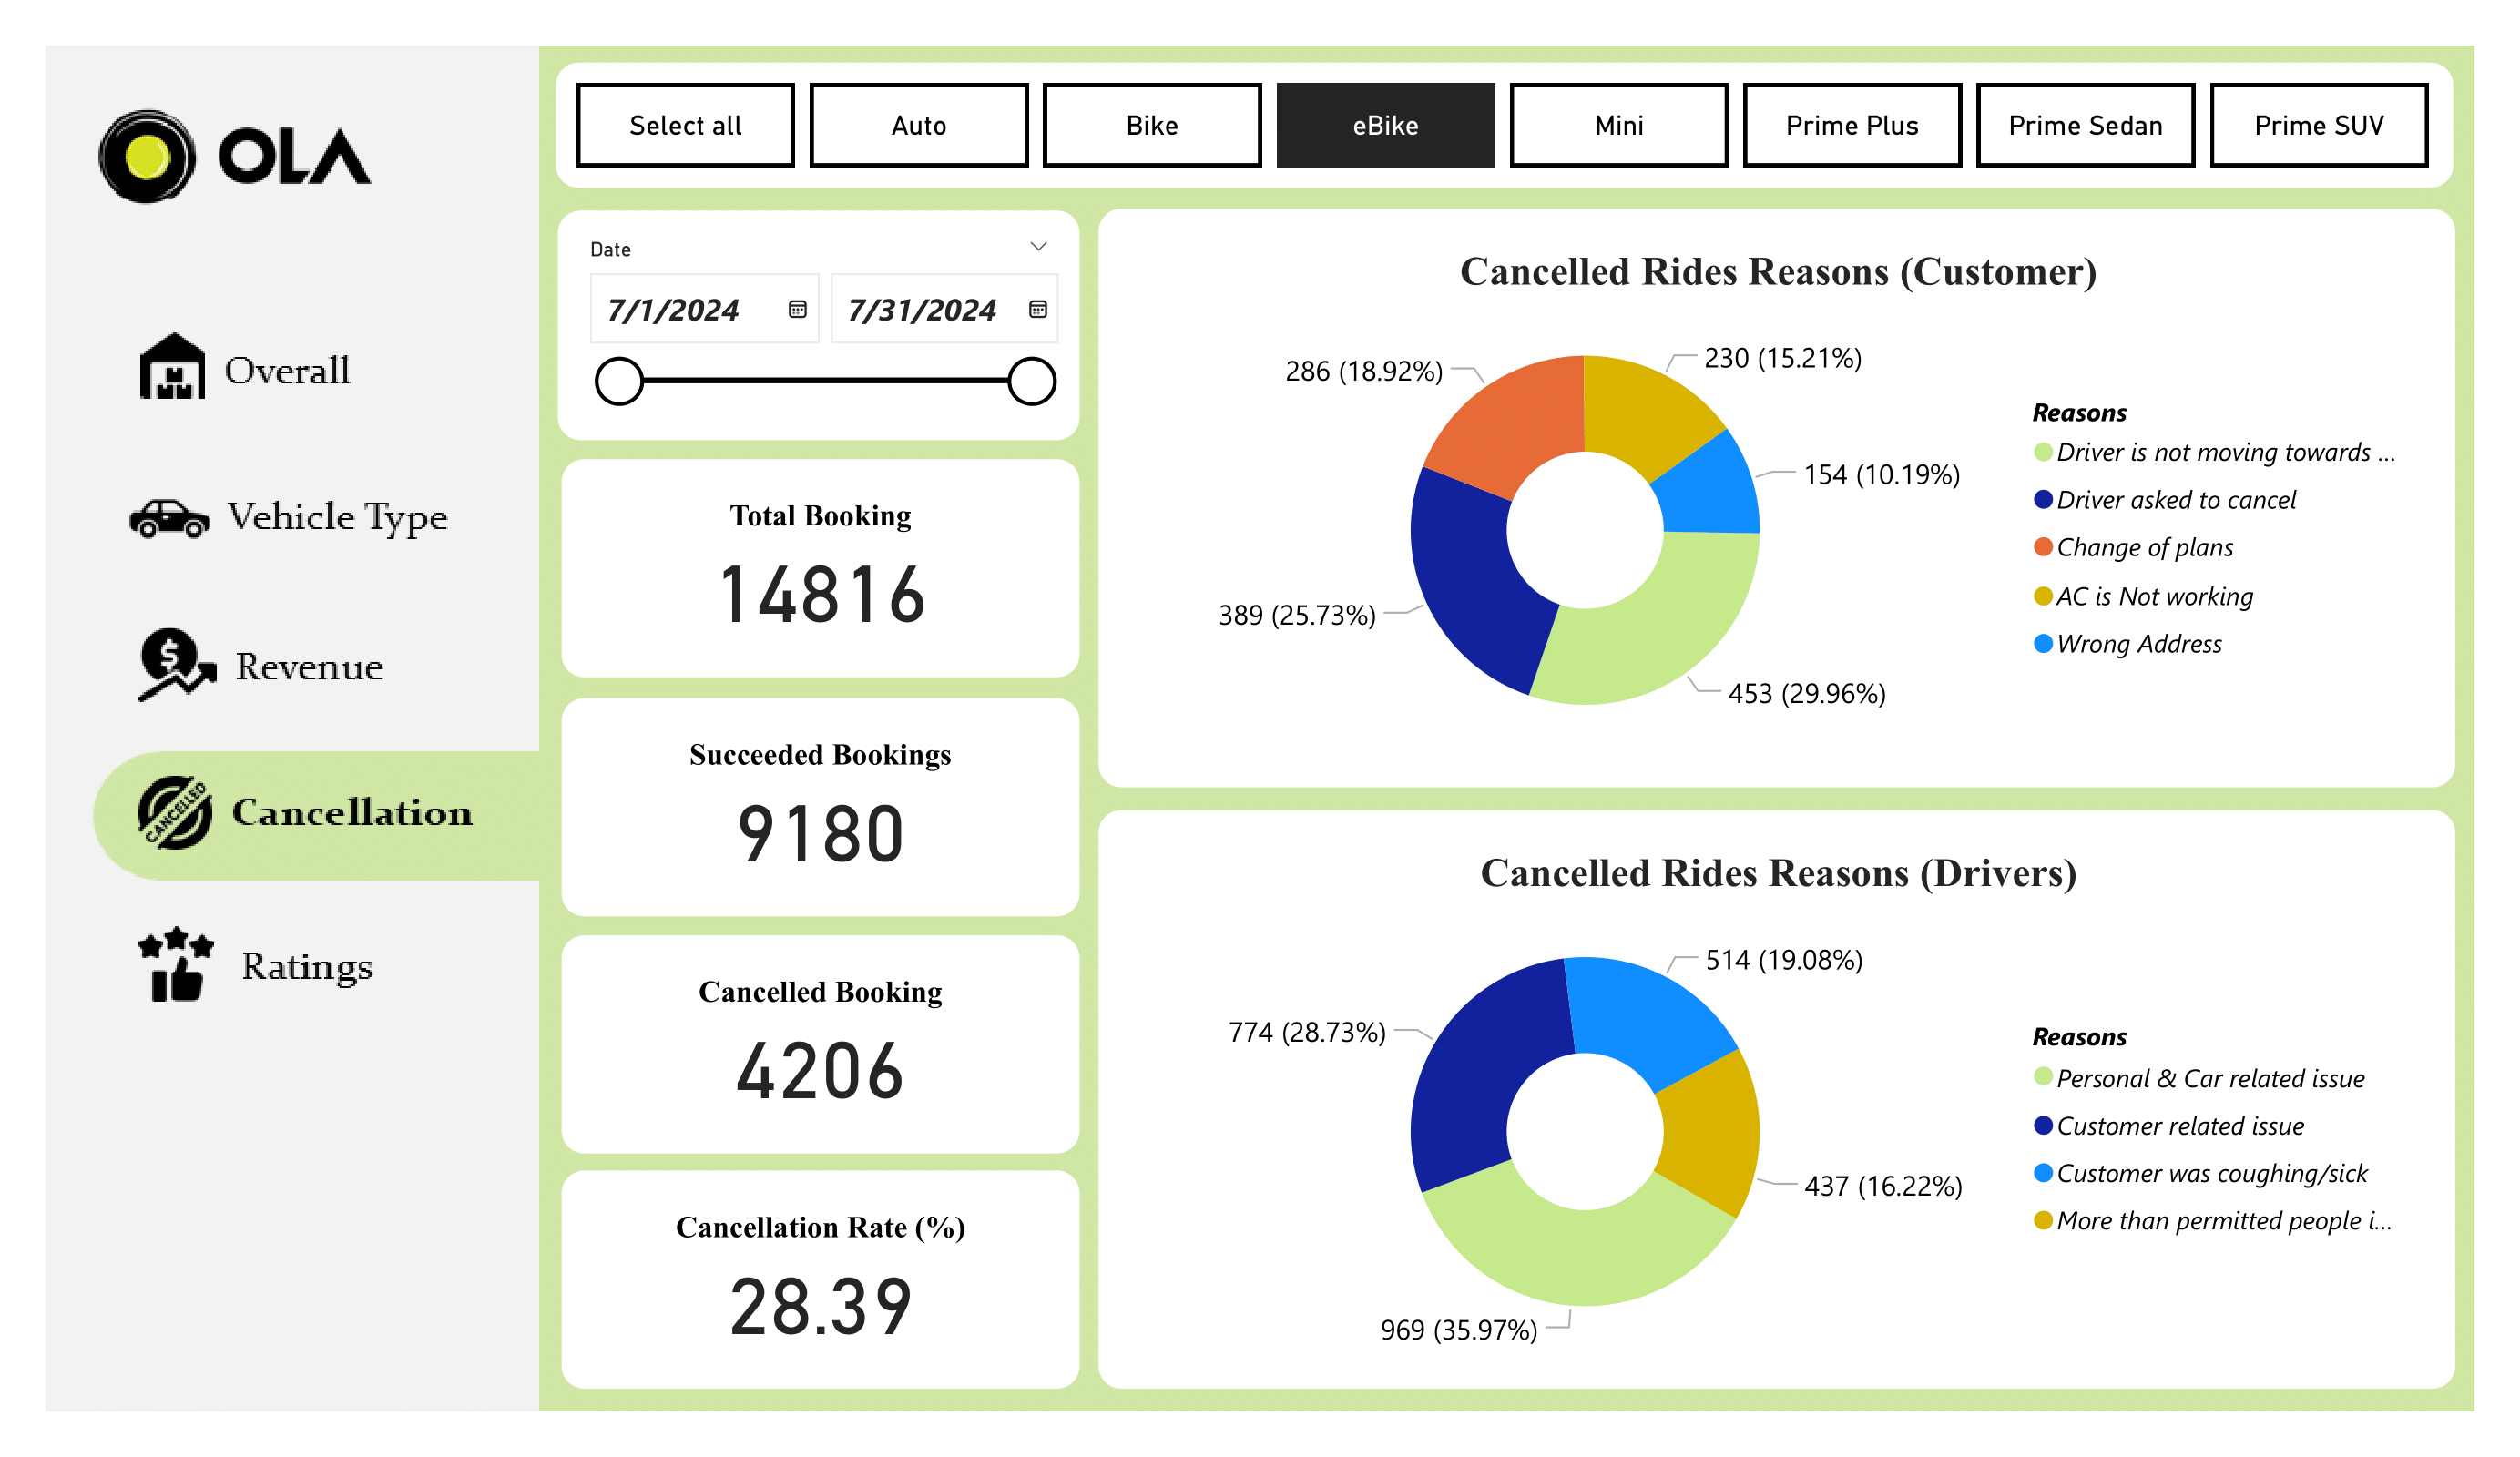

This screenshot's page, from the dashboard's own definition file:
{"tool":"powerbi","page":{"name":"Cancellation","canvas":[1280,720],"ordinal":3},"visuals":[{"type":"actionButton","box":[25,212.5,237.5,72.5],"z":0},{"type":"actionButton","box":[22.5,290,237.5,72.5],"z":1000},{"type":"actionButton","box":[23.8,448.8,237.5,72.5],"z":2000},{"type":"actionButton","box":[23.8,132.5,237.5,72.5],"z":3000},{"type":"donutChart","title":"Cancelled Rides Reasons (Customer)","fields":{"Category":["Bookings-100000-Rows.Canceled_Rides_by_Customer"],"Y":["CountNonNull(Bookings-100000-Rows.Canceled_Rides_by_Customer)"]},"box":[555,86,715,305],"z":4000},{"type":"donutChart","title":"Cancelled Rides Reasons (Drivers)","fields":{"Category":["Bookings-100000-Rows.Canceled_Rides_by_Driver"],"Y":["CountNonNull(Bookings-100000-Rows.Canceled_Rides_by_Driver)"]},"box":[555,403,715,305],"z":5000},{"type":"slicer","title":"Date","fields":{"Values":["Bookings-100000-Rows.Date"]},"box":[270,86.7,275,121.7],"z":6000},{"type":"cardVisual","fields":{"Data":["CountNonNull(Bookings-100000-Rows.Booking_ID)"]},"box":[271.7,344,273.3,115],"z":7000},{"type":"cardVisual","title":"Total Booking","fields":{"Data":["Count(Bookings-100000-Rows.Booking_ID)"]},"box":[271.7,218,273.3,115],"z":8000},{"type":"cardVisual","fields":{"Data":["CountNonNull(Bookings-100000-Rows.Booking_ID)"]},"box":[271.7,469,273.3,115],"z":9000},{"type":"cardVisual","fields":{"Data":["Bookings-100000-Rows.Cancellation Rate (%)"]},"box":[271.7,593.3,273.3,115],"z":10000},{"type":"advancedSlicerVisual","fields":{"Values":["Bookings-100000-Rows.Vehicle_Type"]},"box":[268.8,9.1,1000,66.2],"z":10001}]}

Visuals, with their boxes in screenshot pixels (x1, y1, x2, y2):
actionButton: Rect(93, 449, 544, 586)
actionButton: Rect(88, 596, 539, 733)
actionButton: Rect(91, 897, 541, 1034)
actionButton: Rect(91, 297, 541, 434)
"Cancelled Rides Reasons (Customer)" donutChart: Rect(1098, 209, 2455, 788)
"Cancelled Rides Reasons (Drivers)" donutChart: Rect(1098, 810, 2455, 1389)
"Date" slicer: Rect(558, 210, 1080, 441)
cardVisual - CountNonNull(Bookings-100000-Rows.Booking_ID): Rect(561, 698, 1080, 916)
"Total Booking" cardVisual: Rect(561, 459, 1080, 678)
cardVisual - CountNonNull(Bookings-100000-Rows.Booking_ID): Rect(561, 935, 1080, 1154)
cardVisual - Bookings-100000-Rows.Cancellation Rate (%): Rect(561, 1171, 1080, 1390)
advancedSlicerVisual - Bookings-100000-Rows.Vehicle_Type: Rect(556, 63, 2454, 188)
